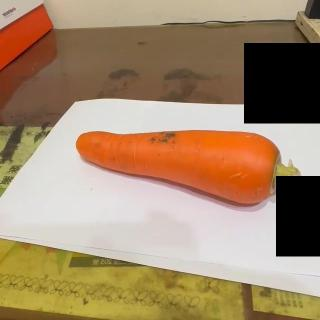carrot: (73, 127, 301, 205)
